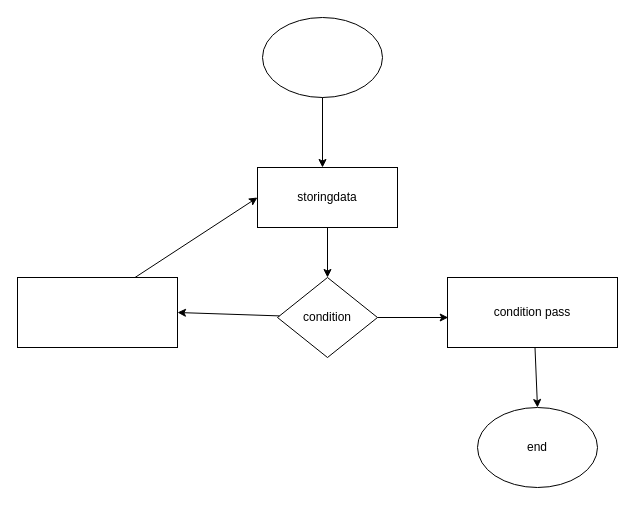
Image size: 635x505. Some labels were removed from this diagram. The box of each missing label's shape, as (x1, y1, x2, y2) in pixels:
con dition fail: (16, 276, 178, 348)
start: (262, 16, 382, 98)
